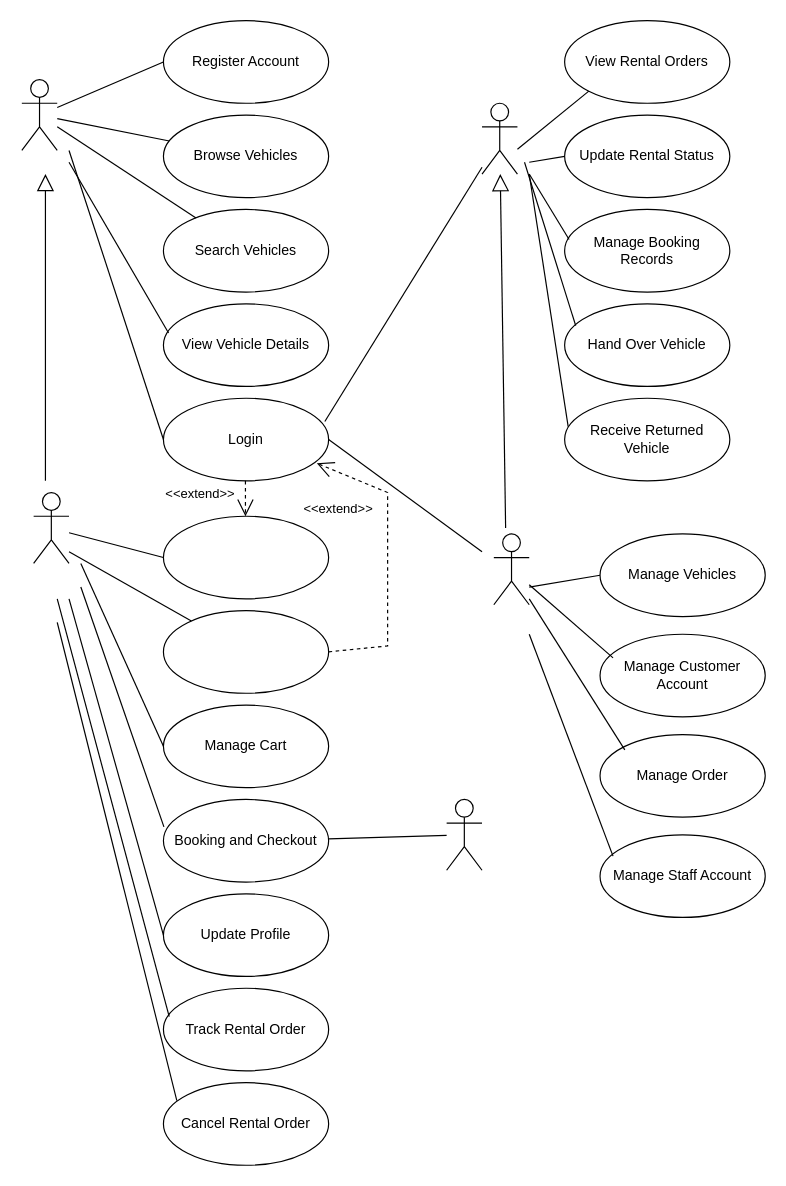
This 786x1186 diagram has some shape labels left out. Here are the shapes that lost their labels. From the top down, the box of each, then its label:
(21, 78, 57, 150): Guest
(481, 102, 517, 174): Staff
(32, 491, 69, 563): Customer
(162, 515, 329, 599): Add to Cart
(493, 533, 529, 605): Admin
(162, 609, 329, 693): Reset Password
(445, 798, 482, 870): Bellling System
